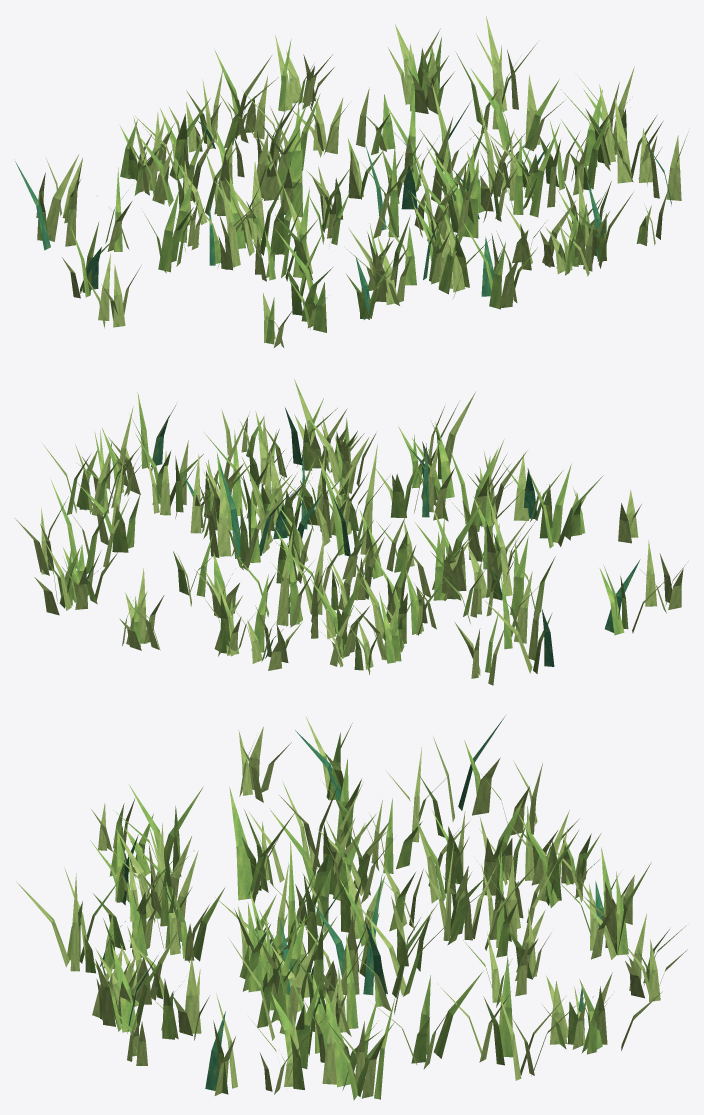
The model's file is MeadowGrassLow.fbx.
The picture shows the model from 3 angles, top to bottom: view 1: azimuth 30°, elevation 25°; view 2: azimuth 150°, elevation 25°; view 3: azimuth 270°, elevation 25°; orthographic projection. The views are drawn at different scales.
Parts seen in each view (by area): view 1: MeadowGrassLow; view 2: MeadowGrassLow; view 3: MeadowGrassLow.
Boxes of the visible parts, x1,y1,x2,y2 form: MeadowGrassLow: (14, 16, 687, 347); MeadowGrassLow: (15, 379, 687, 685); MeadowGrassLow: (16, 715, 687, 1100).
Bounding box in the file's own units: 492 × 71.22 × 420.
Materials: 1 (1 with a texture image).
